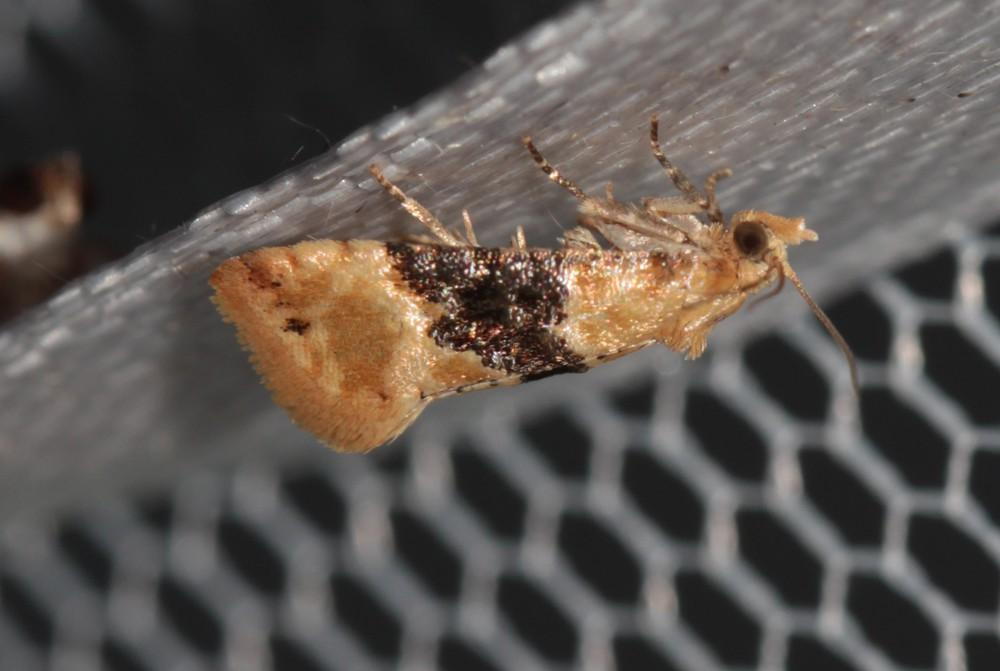Eupoecilia Ambiguella: (205, 112, 863, 457)
